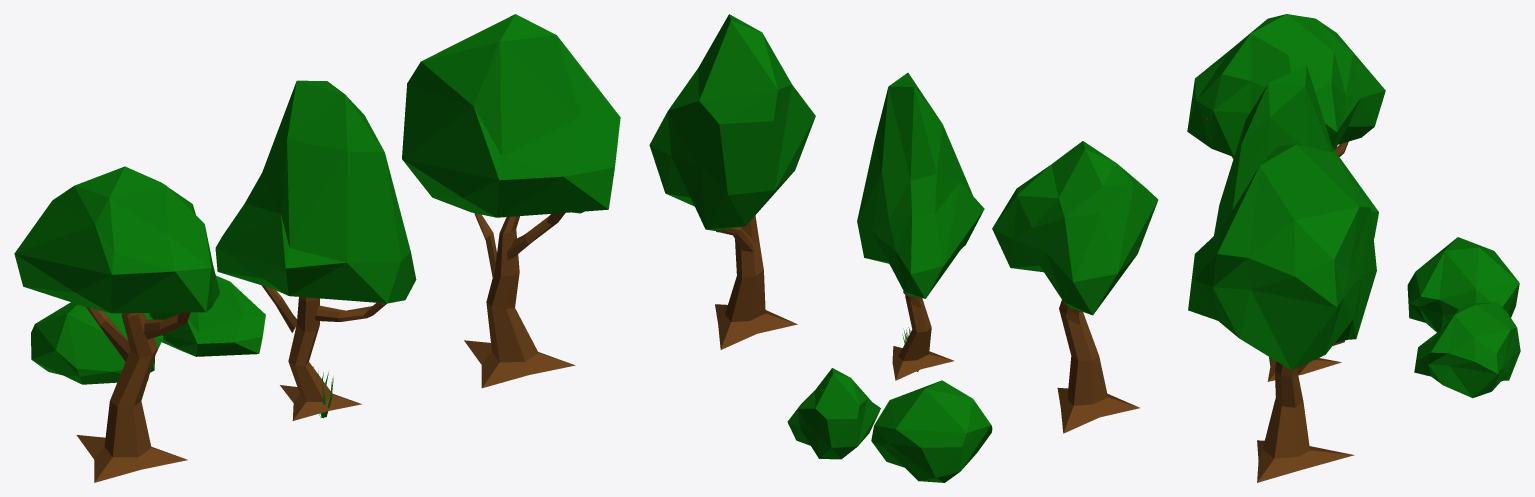
The model's file is Greens.fbx.
The picture shows the model from 3 angles, left to right: view 1: azimuth 30°, elevation 25°; view 2: azimuth 150°, elevation 25°; view 3: azimuth 270°, elevation 25°; orthographic projection. The views are drawn at different scales.
Parts seen in each view (by area): view 1: Cylinder.002, Cylinder.001, Cylinder, Cylinder.004, Cylinder.003; view 2: Cylinder.002, Cylinder, Cylinder.001, Cylinder.004, Cylinder.003; view 3: Cylinder.002, Cylinder, Cylinder.001, Cylinder.003, Cylinder.004.
Part boxes in pixels (x1=…): Cylinder.002: x1=402, y1=14, x2=620, y2=388; Cylinder.001: x1=215, y1=80, x2=416, y2=420; Cylinder: x1=14, y1=166, x2=219, y2=482; Cylinder.004: x1=31, y1=302, x2=163, y2=384; Cylinder.003: x1=149, y1=275, x2=265, y2=356; Cylinder.002: x1=649, y1=14, x2=815, y2=349; Cylinder: x1=992, y1=141, x2=1158, y2=433; Cylinder.001: x1=857, y1=72, x2=984, y2=380; Cylinder.004: x1=871, y1=380, x2=992, y2=482; Cylinder.003: x1=787, y1=368, x2=880, y2=459; Cylinder.002: x1=1188, y1=144, x2=1376, y2=482; Cylinder: x1=1187, y1=14, x2=1385, y2=158; Cylinder.001: x1=1214, y1=66, x2=1378, y2=381; Cylinder.003: x1=1414, y1=302, x2=1520, y2=398; Cylinder.004: x1=1407, y1=237, x2=1519, y2=332.
Bounding box in the file's own units: 2406 × 1538 × 1389.
